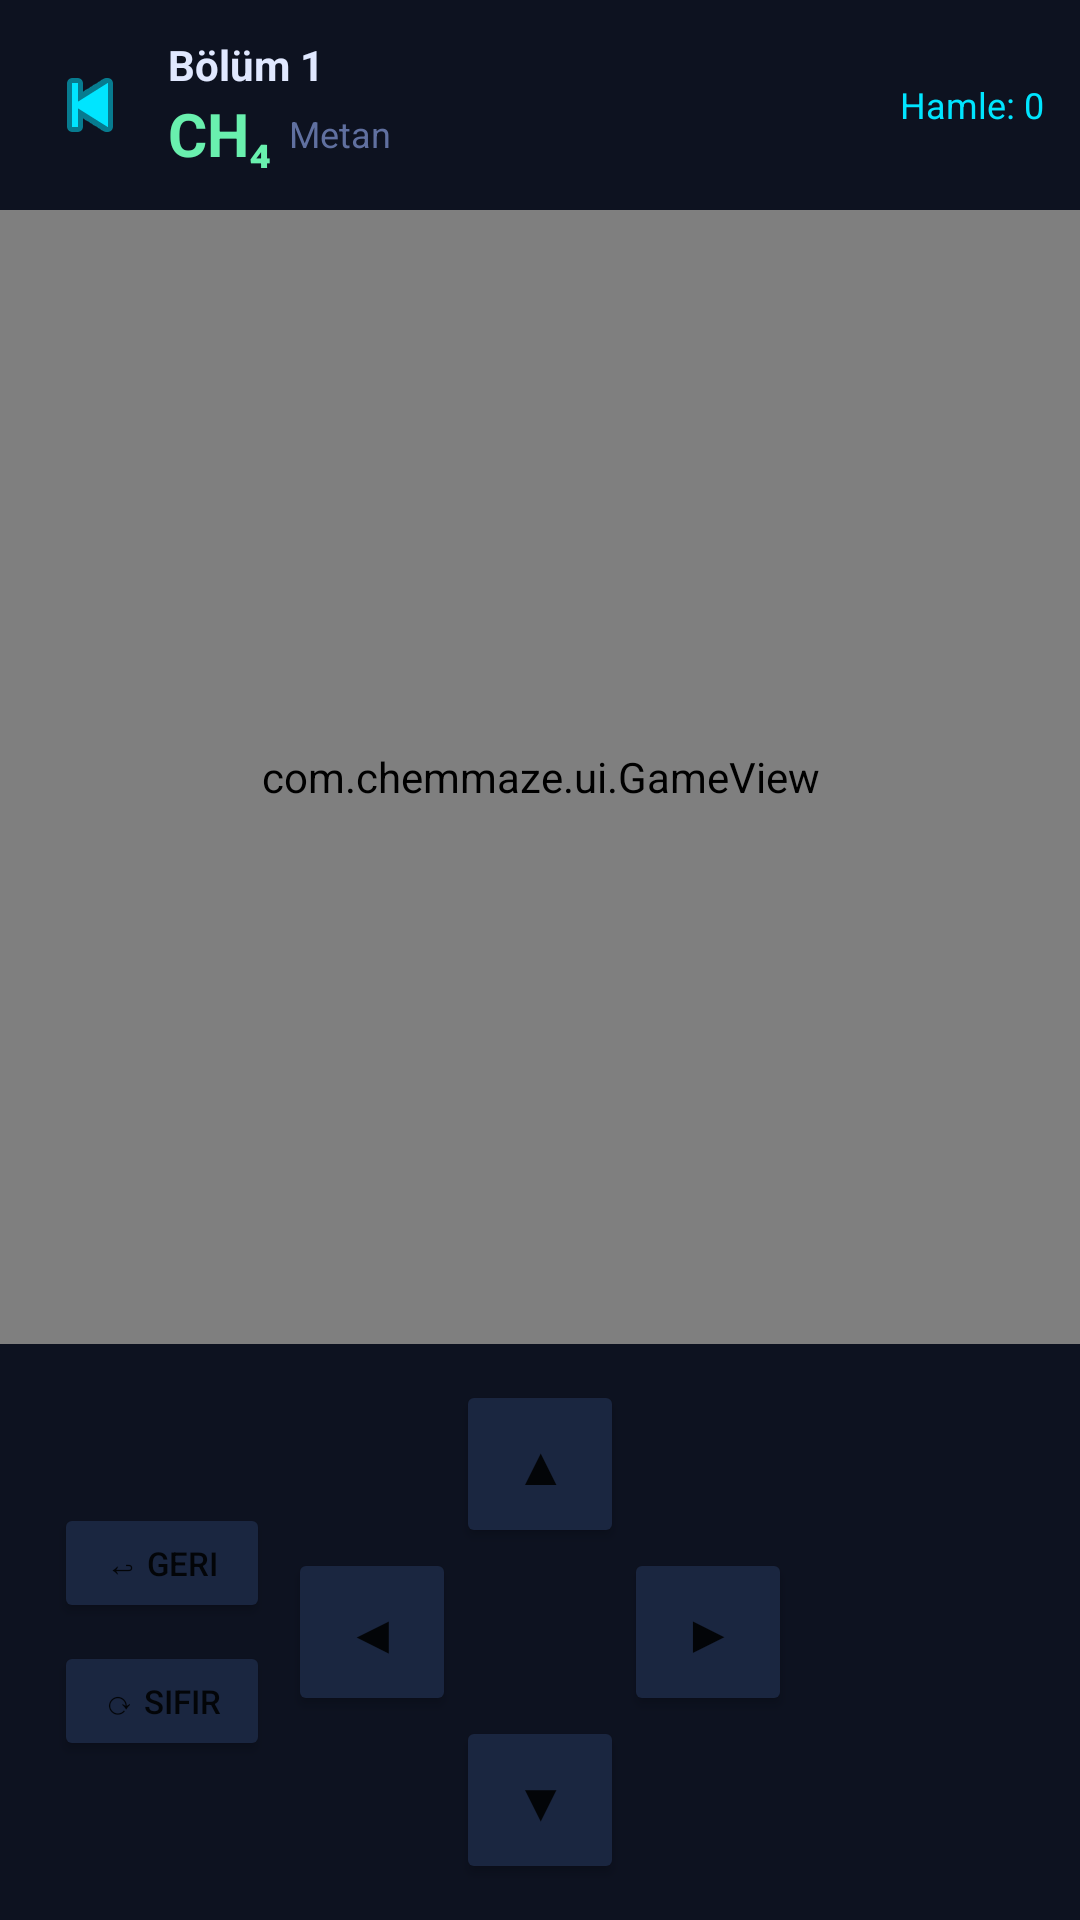

Screen size 1080×1920. Icon name, then its center in pixels as [x,y]:
previous: [90,105]
